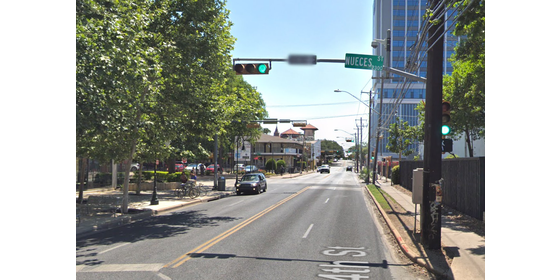one way arrow sign: (286, 53, 318, 66)
street name sign: (344, 54, 386, 70)
